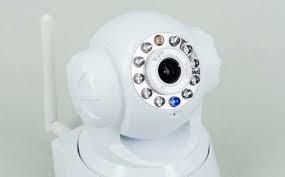maru: (59, 1, 232, 142)
